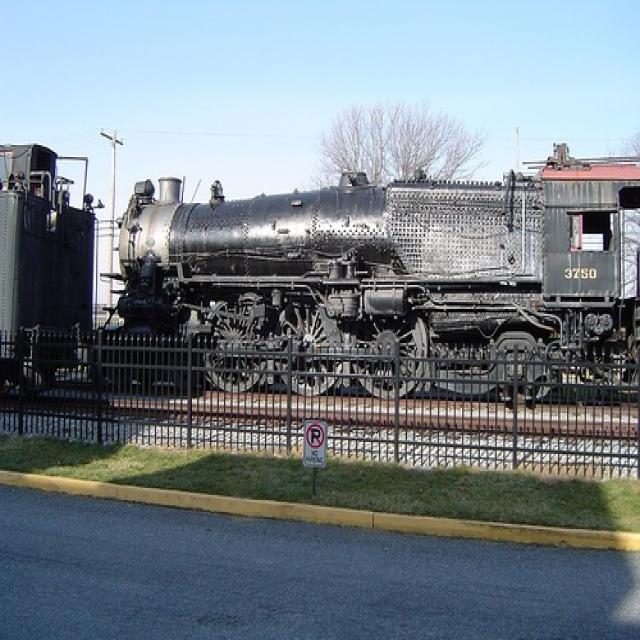train: (110, 177, 629, 403)
